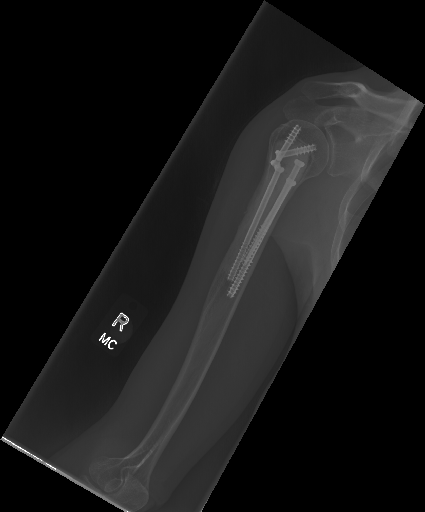implant: (219, 113, 330, 297)
